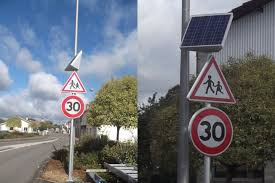Speed_limit_30km: (188, 106, 233, 156), (61, 96, 84, 119)
